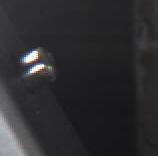screw: (12, 44, 57, 93), (123, 10, 158, 73)
